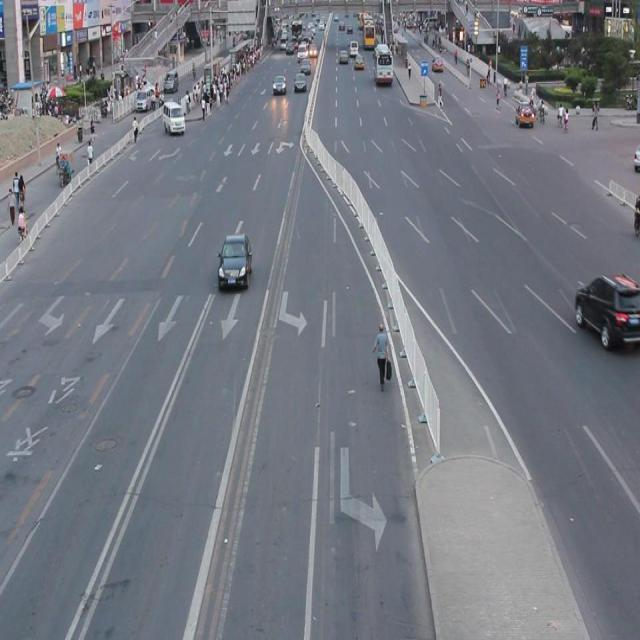car: (573, 271, 640, 346), (217, 232, 252, 291)
